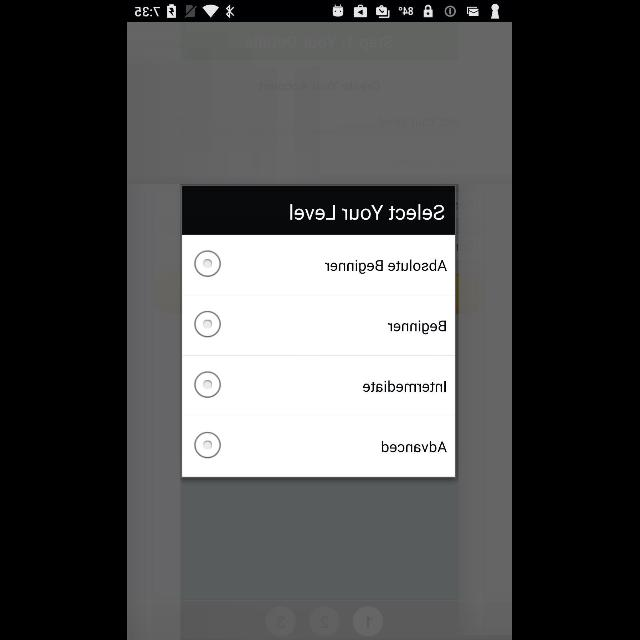checkbox: (194, 372, 222, 398), (195, 432, 221, 460), (195, 251, 221, 277), (195, 311, 221, 337)
panel: (182, 186, 458, 478)
text: (291, 204, 445, 220), (325, 260, 447, 274), (364, 380, 446, 392), (389, 320, 447, 334), (383, 441, 447, 453)
uppertaskbar: (128, 1, 512, 23)
